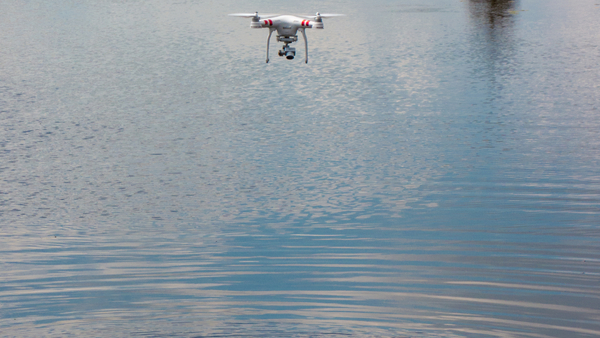drone: (228, 10, 346, 65)
